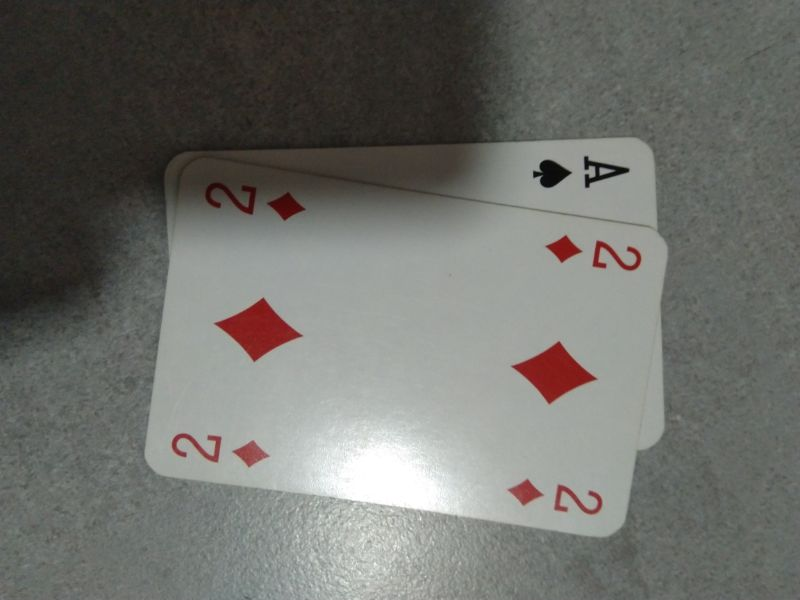2d: (199, 174, 316, 229), (540, 229, 643, 279), (499, 474, 608, 520), (165, 427, 272, 471)
As: (528, 152, 635, 193)
